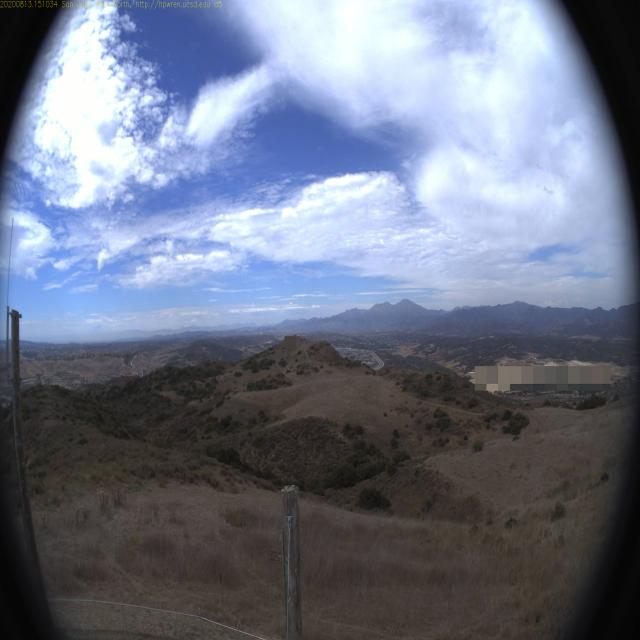smoke: (170, 302, 188, 337)
